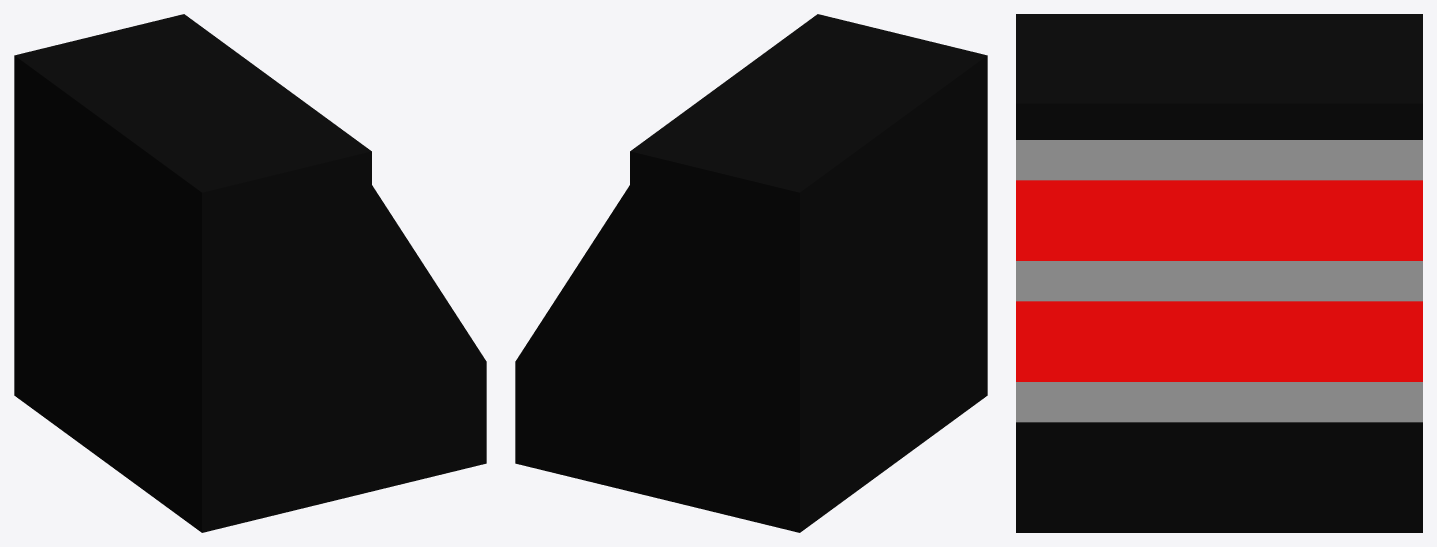
The model's file is SM_LandingPadTrim.FBX.
3 renders of one model, left to right at view 1: azimuth 30°, elevation 25°; view 2: azimuth 150°, elevation 25°; view 3: azimuth 270°, elevation 25°, orthographic. The views are drawn at different scales.
Parts seen in each view (by area): view 1: Box002; view 2: Box002; view 3: Box002.
Boxes of the visible parts, left/top/right/bottom form: Box002: left=14, top=14, right=486, bottom=532; Box002: left=515, top=14, right=987, bottom=532; Box002: left=1016, top=14, right=1422, bottom=532.
Bounding box in the file's own units: 875 × 1000 × 1000.
